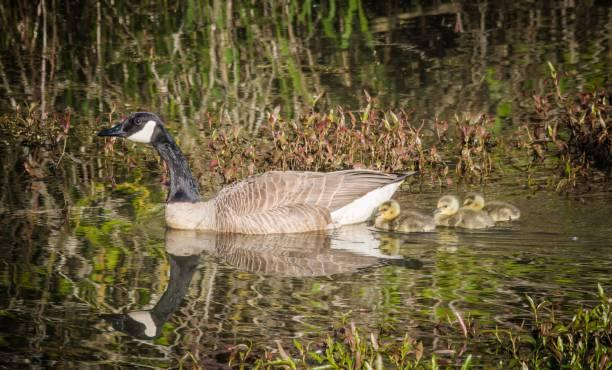Canadian-Goose: (101, 108, 410, 232), (431, 198, 491, 234), (374, 200, 431, 234), (467, 193, 521, 225)
